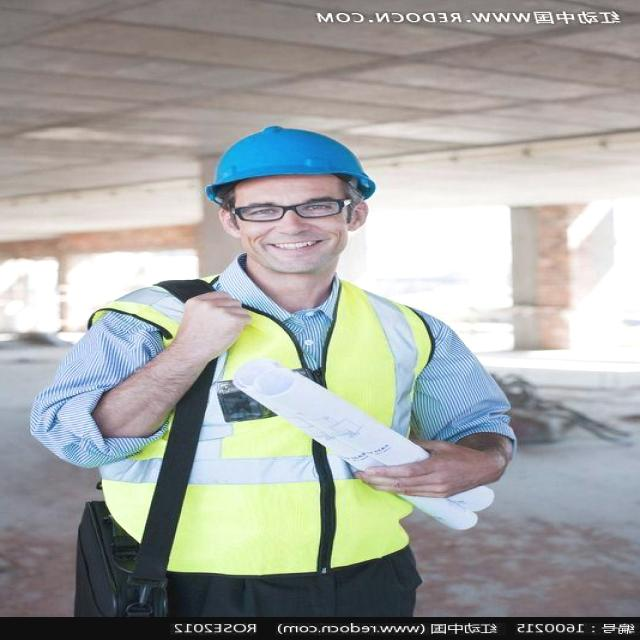face_nomask: (240, 186, 354, 282)
glasses: (238, 196, 346, 227)
hand_noglove: (356, 431, 485, 501), (167, 288, 266, 359)
head_helmet: (204, 123, 384, 192)
person: (34, 110, 528, 618)
vest: (107, 256, 435, 574)
